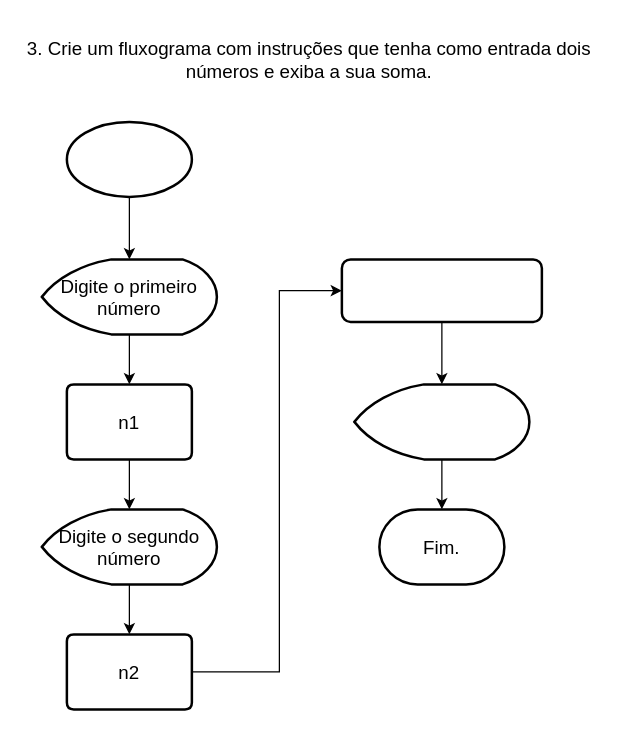
This 618x731 diagram has some shape labels left out. Here are the shapes that lost their labels. From the top down, the centre of each, then its label:
At [128,159]: "Início".
At [441,290]: "resultado = n1 + n2".
At [441,421]: "resultado".
